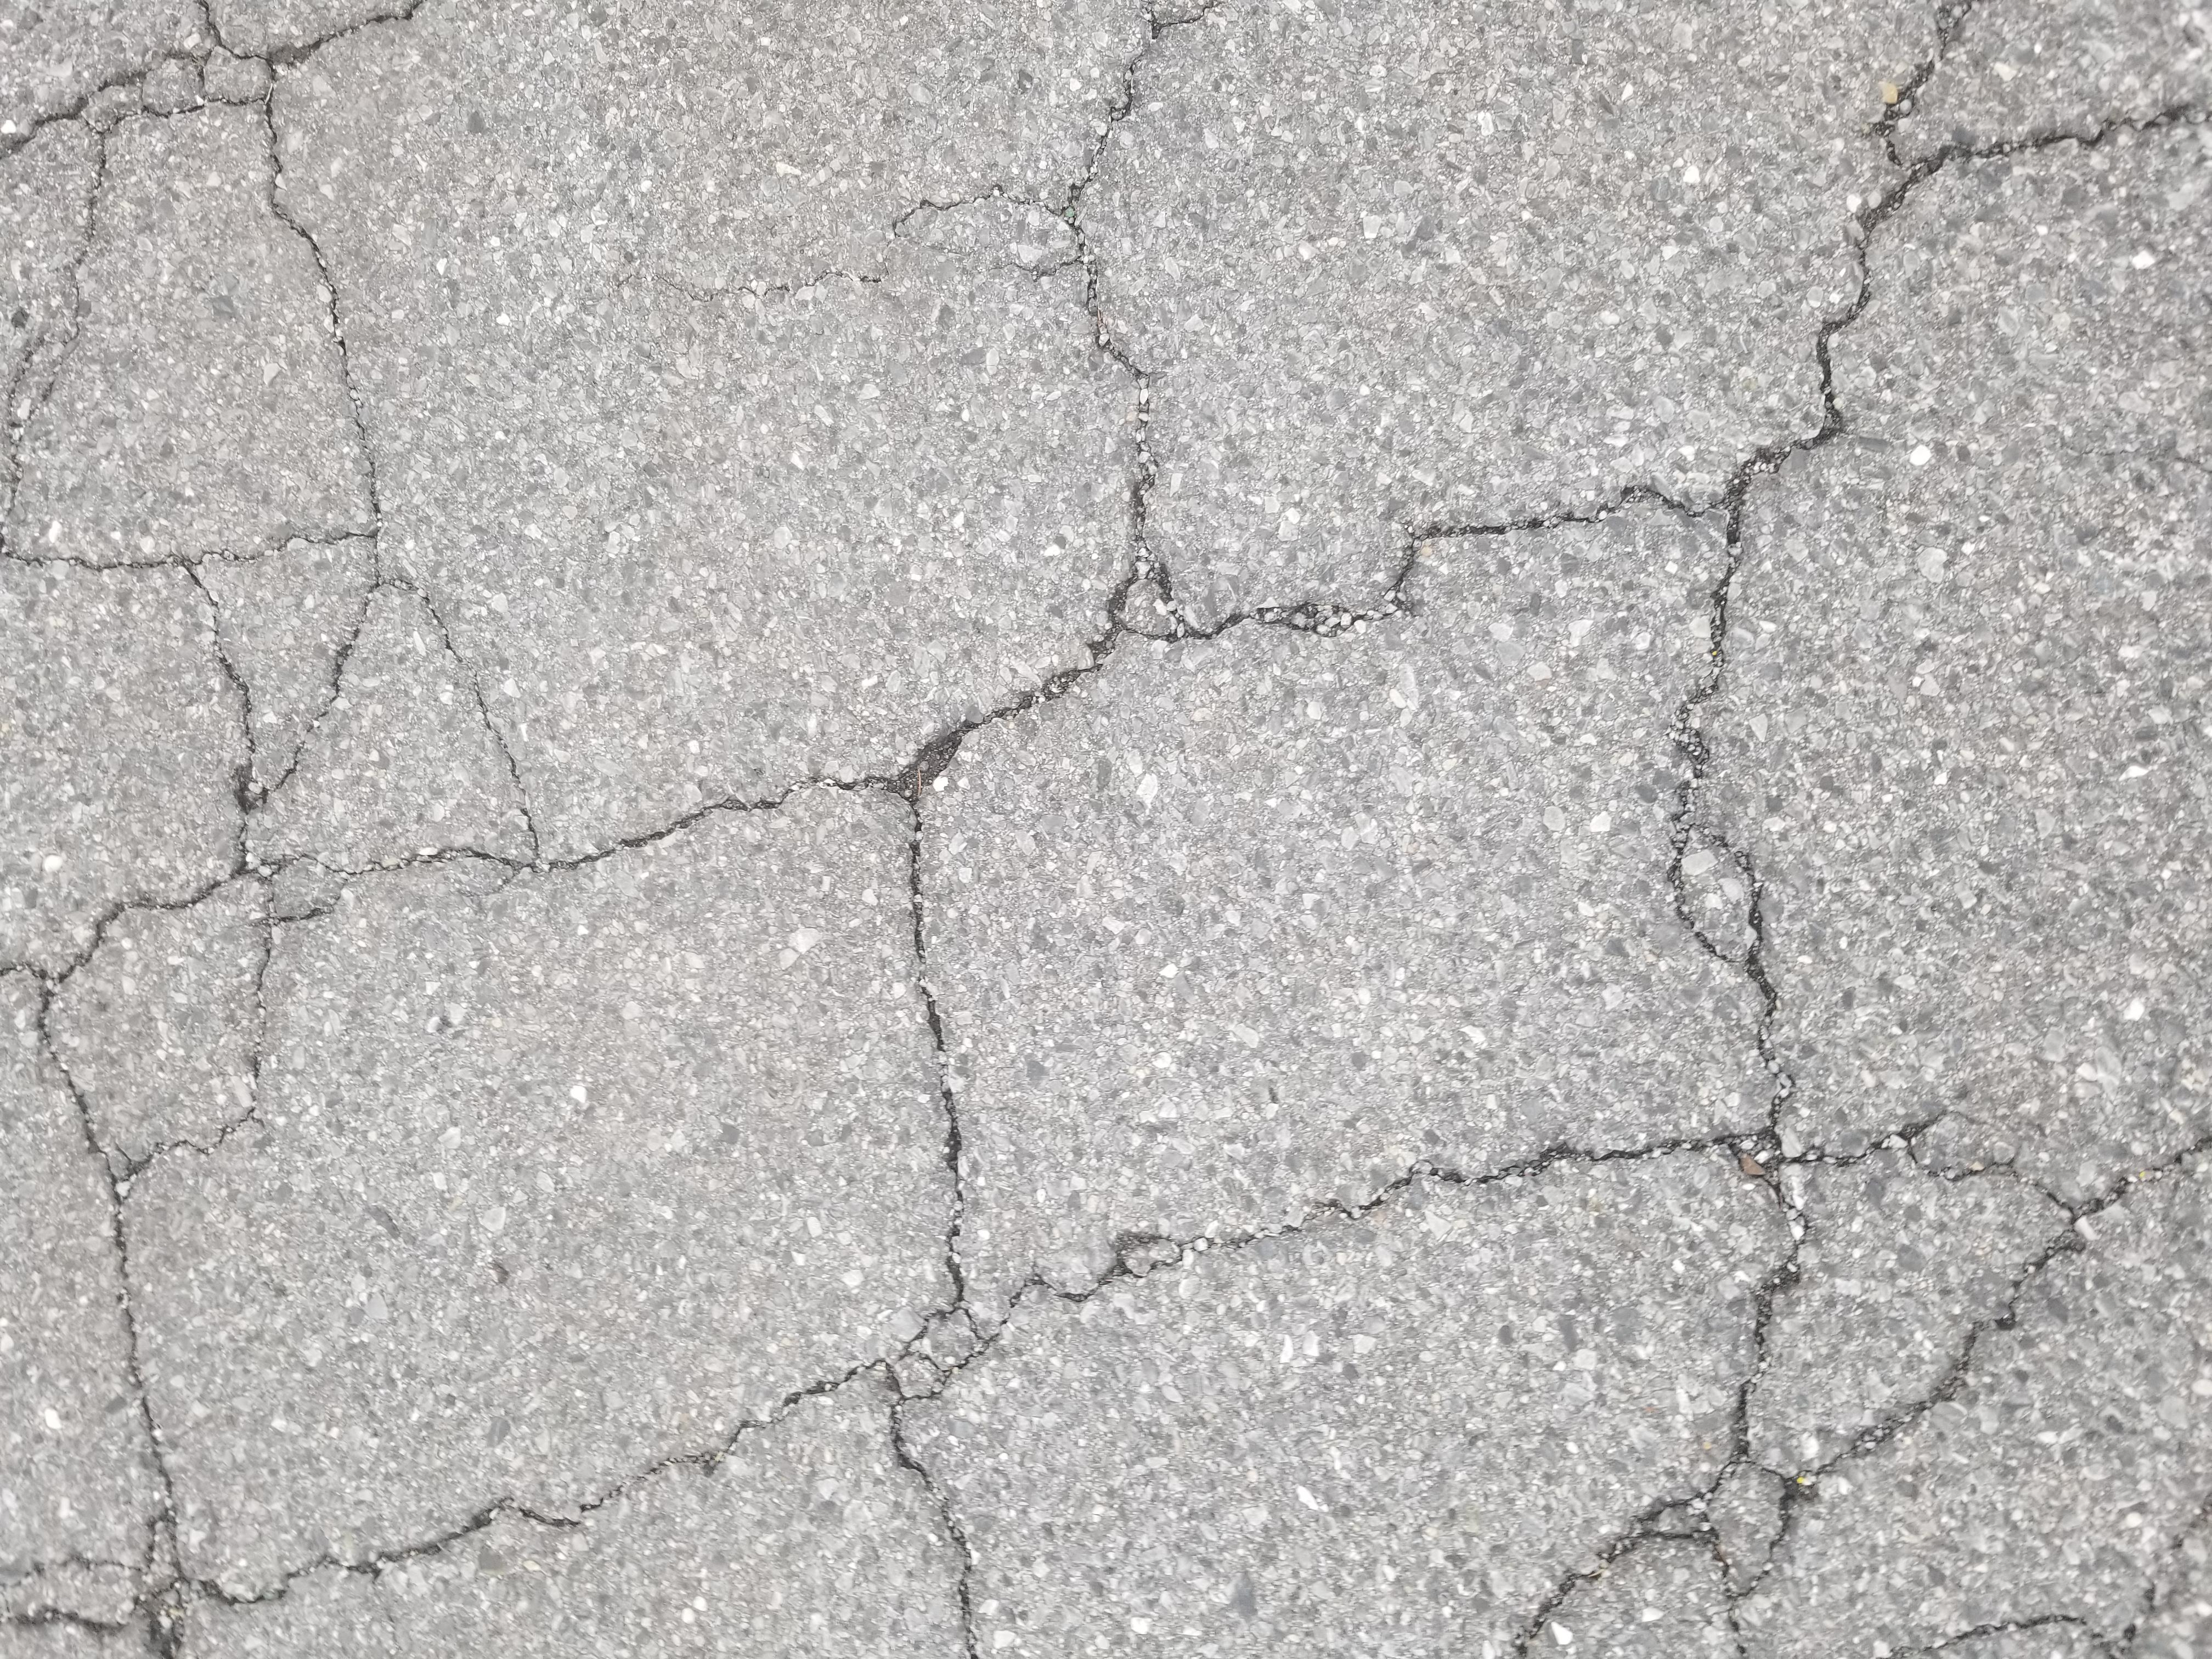alligator-crack: (7, 7, 2212, 1659)
